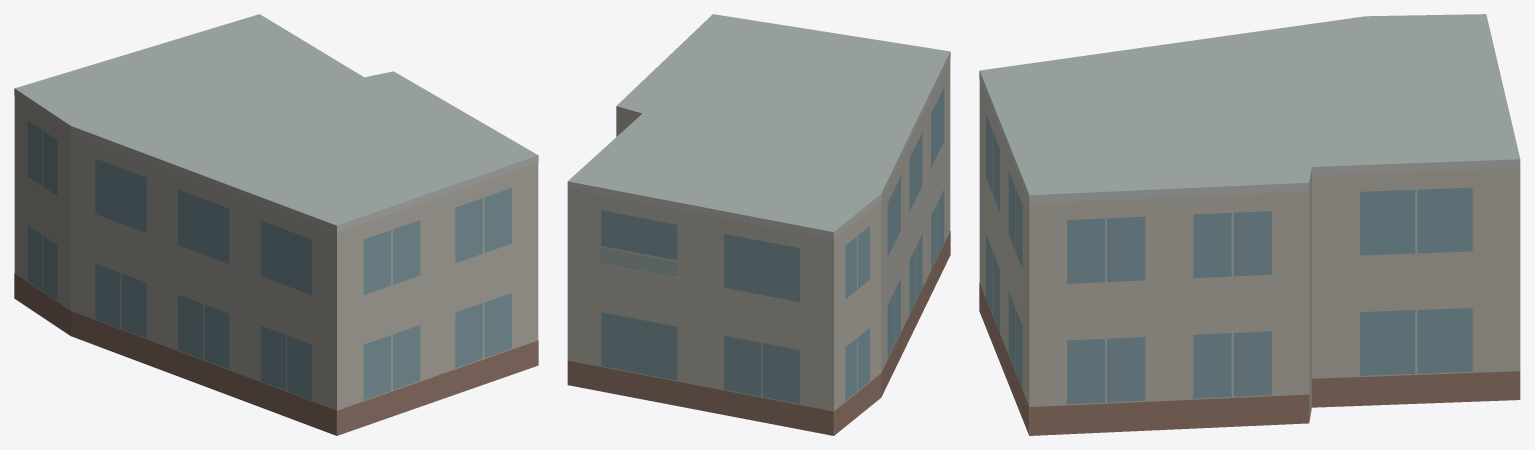
Rendered from survey-upis-32494641.glb.
The picture shows the model from 3 angles, left to right: view 1: azimuth 30°, elevation 25°; view 2: azimuth 150°, elevation 25°; view 3: azimuth 270°, elevation 25°; orthographic projection. The views are drawn at different scales.
Visible parts, largest first — view 1: survey-upis-32494641.tmp; view 2: survey-upis-32494641.tmp; view 3: survey-upis-32494641.tmp.
Part boxes in pixels (x1,y1,x2,y2): survey-upis-32494641.tmp: [14, 14, 538, 435]; survey-upis-32494641.tmp: [567, 14, 950, 435]; survey-upis-32494641.tmp: [979, 14, 1520, 435].
Size of the model in its own units: 11.15 by 6.9 by 14.07.
